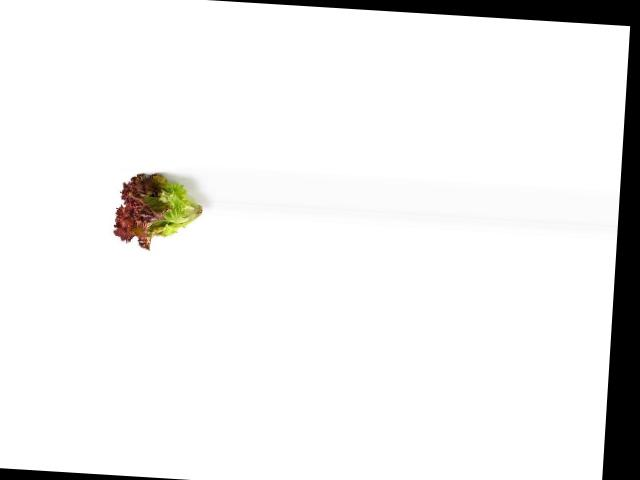lettuce: (108, 169, 216, 251)
